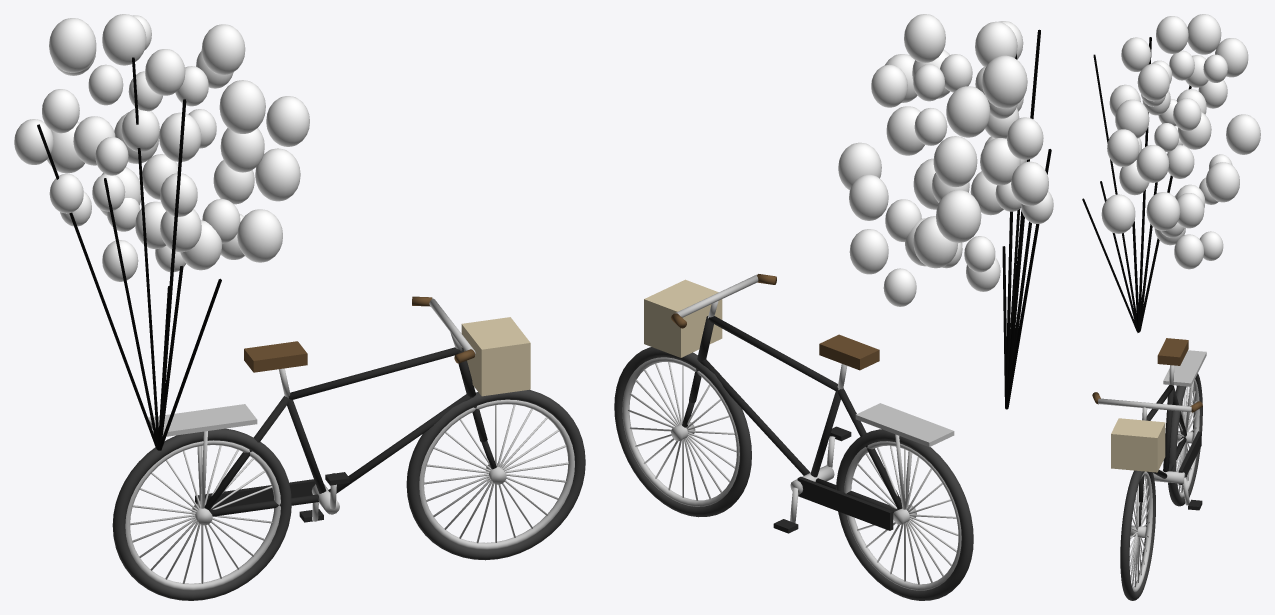
Rendered from bike1.glb.
3 views of the same model, side by side, from view 1: azimuth 30°, elevation 25°; view 2: azimuth 150°, elevation 25°; view 3: azimuth 270°, elevation 25° (orthographic). The views are drawn at different scales.
Parts seen in each view (by area): view 1: stringBalloon, RearWheel_Tire, FrontWheel_Tire, Front_Basket, FrontWheel_Spokes, RearWheel_Spokes, FrontWheel_Rim, RearWheel_Rim, Sphere.013, Rear_Rack_Top, Sphere.033, Sphere.001 (+33 smaller); view 2: RearWheel_Tire, FrontWheel_Tire, Front_Basket, stringBalloon, FrontWheel_Spokes, RearWheel_Spokes, FrontWheel_Rim, RearWheel_Rim, Rear_Rack_Top, Chain_Guard, Sphere.013, Sphere.032 (+30 smaller); view 3: stringBalloon, Front_Basket, FrontWheel_Tire, RearWheel_Tire, Sphere.032, Sphere.013, Sphere.037, Sphere.001, Sphere.016, FrontWheel_Spokes, Sphere.021, Sphere.035 (+31 smaller).
Boxes of the visible parts, x1,y1,x2,y2 form: stringBalloon: (37, 57, 221, 450); RearWheel_Tire: (112, 428, 291, 600); FrontWheel_Tire: (406, 389, 585, 560); Front_Basket: (461, 317, 530, 396); FrontWheel_Spokes: (424, 404, 568, 543); RearWheel_Spokes: (130, 445, 272, 583); FrontWheel_Rim: (419, 399, 574, 549); RearWheel_Rim: (125, 440, 280, 590); Sphere.013: (49, 18, 96, 72); Rear_Rack_Top: (148, 404, 257, 436); Sphere.033: (219, 80, 265, 133); Sphere.001: (237, 209, 282, 262); RearWheel_Tire: (836, 429, 973, 600); FrontWheel_Tire: (614, 347, 751, 517); Front_Basket: (644, 279, 722, 357); stringBalloon: (1002, 29, 1051, 409); FrontWheel_Spokes: (628, 362, 736, 500); RearWheel_Spokes: (851, 446, 958, 584); FrontWheel_Rim: (622, 357, 739, 506); RearWheel_Rim: (844, 441, 961, 590); Rear_Rack_Top: (855, 403, 954, 446); Chain_Guard: (797, 476, 893, 530); Sphere.013: (982, 55, 1027, 108); Sphere.032: (936, 190, 981, 242); stringBalloon: (1082, 37, 1191, 332); Front_Basket: (1111, 418, 1165, 472); FrontWheel_Tire: (1120, 470, 1155, 600); RearWheel_Tire: (1168, 373, 1202, 506); Sphere.032: (1226, 114, 1260, 154); Sphere.013: (1187, 14, 1221, 54); Sphere.037: (1206, 162, 1239, 202); Sphere.001: (1101, 194, 1135, 233); Sphere.016: (1146, 192, 1180, 230); FrontWheel_Spokes: (1129, 476, 1150, 587); Sphere.021: (1156, 16, 1188, 53); Sphere.035: (1136, 145, 1169, 182).
Bounding box in the file's own units: 16.28 × 18.72 × 6.71.
